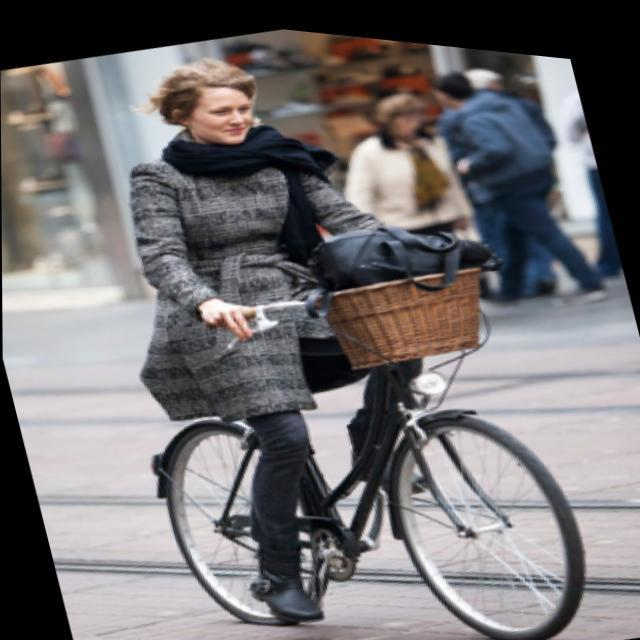Nonhelmet: (147, 46, 265, 164)
